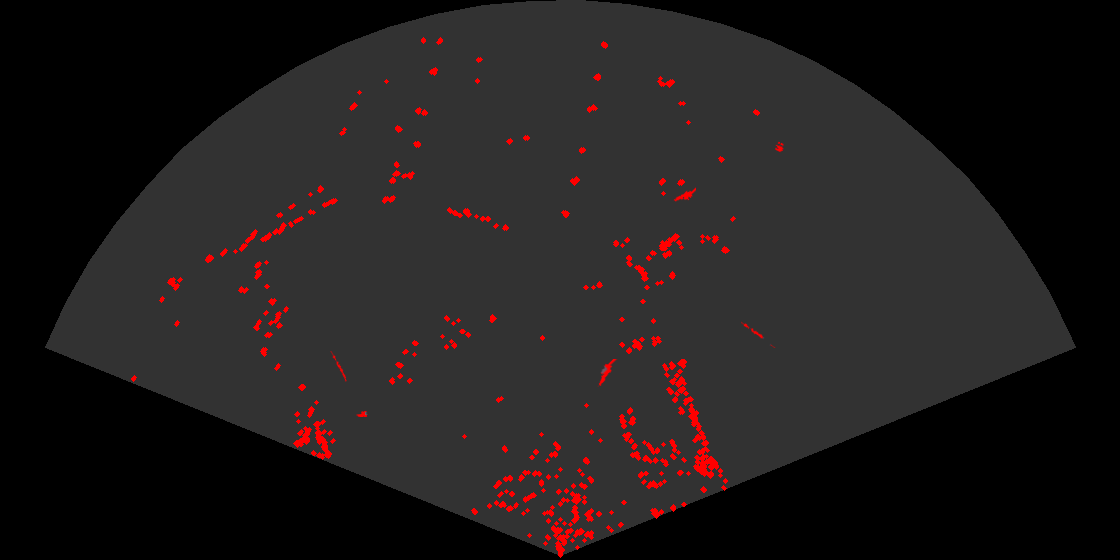AUV: (355, 409, 369, 417)
ball: (774, 140, 786, 154)
chain: (741, 320, 777, 348), (330, 351, 348, 382)
frogman: (596, 359, 618, 387), (673, 186, 696, 203)
